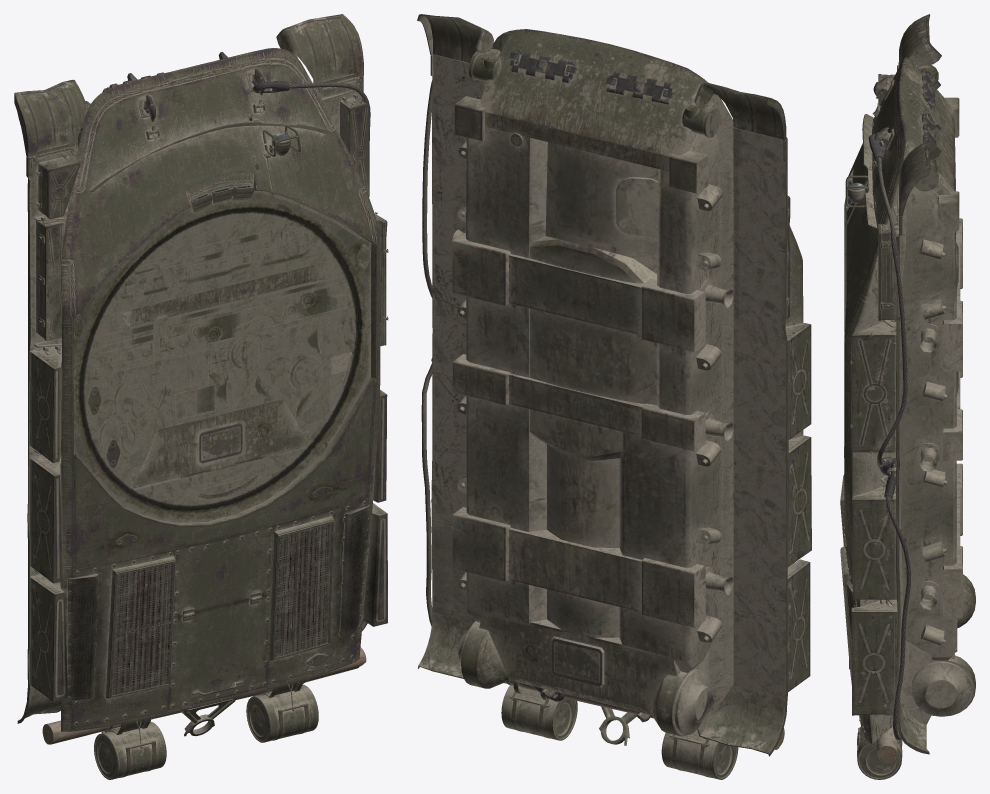
Rendered from Hull.glb.
3 views of the same model, side by side, from view 1: azimuth 30°, elevation 25°; view 2: azimuth 150°, elevation 25°; view 3: azimuth 270°, elevation 25° (orthographic). The views are drawn at different scales.
Parts seen in each view (by area): view 1: set_0_group_0; view 2: set_0_group_0; view 3: set_0_group_0.
Boxes of the visible parts, box(x1,y1,x2,y2) form: set_0_group_0: box(14, 14, 388, 779); set_0_group_0: box(417, 14, 811, 779); set_0_group_0: box(840, 14, 975, 779).
Size of the model in its own units: 3.44 by 6.48 by 1.23.
Materials: 1 (1 with a texture image).
